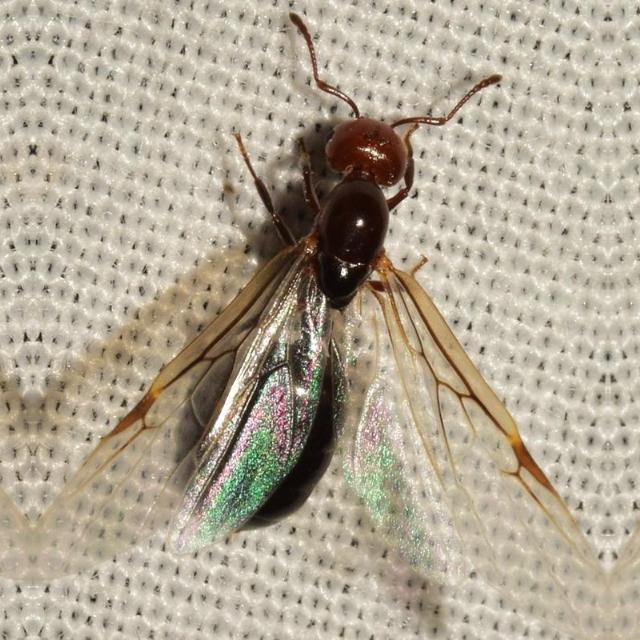Crematogaster: (172, 64, 472, 568)
